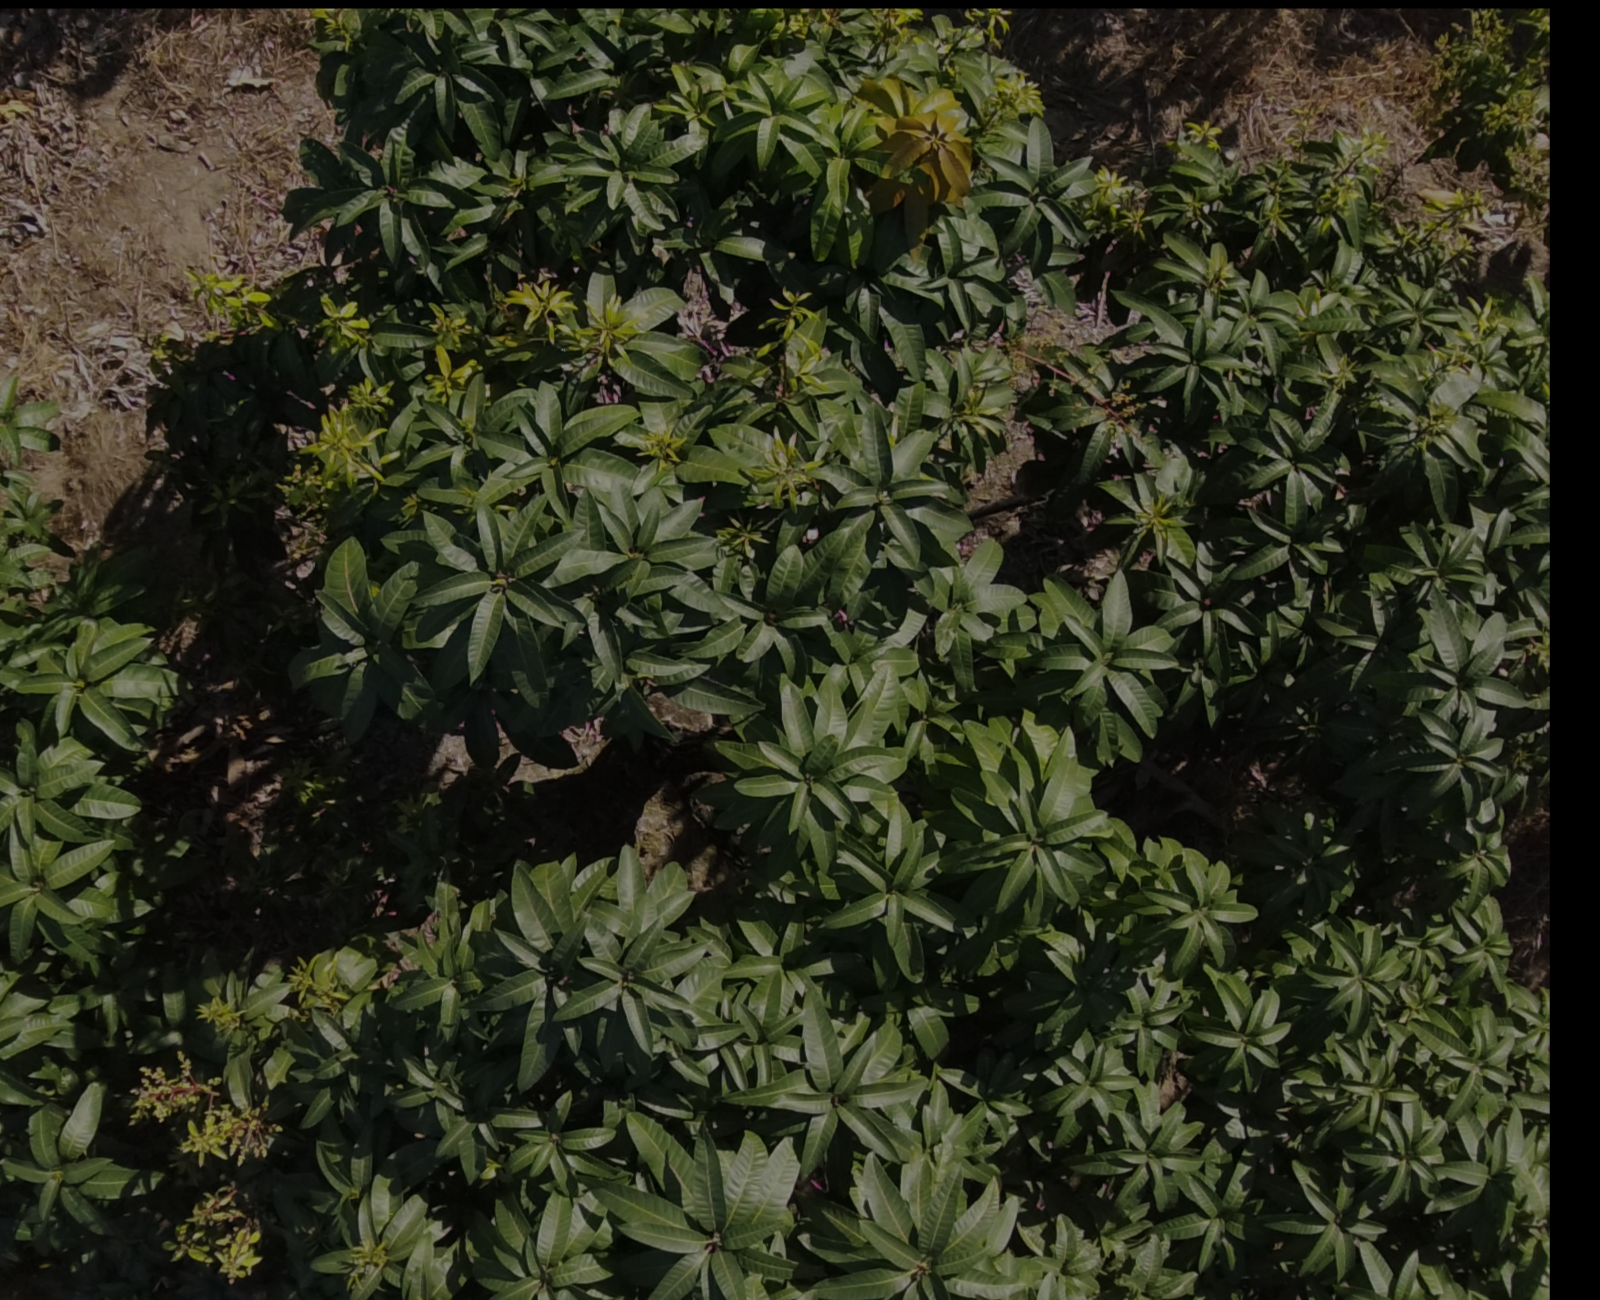flowers: (1153, 134, 1487, 283), (129, 1055, 279, 1165), (503, 279, 639, 374), (165, 1185, 260, 1281), (304, 383, 391, 488), (1470, 8, 1548, 119), (277, 462, 328, 578), (188, 275, 275, 333), (933, 9, 1000, 77), (980, 73, 1044, 131), (1507, 133, 1548, 208), (318, 296, 371, 350), (750, 8, 840, 40), (427, 348, 478, 403), (868, 9, 923, 60), (1093, 168, 1130, 208), (261, 1048, 293, 1088), (1112, 206, 1146, 239)
